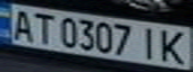0: (54, 15, 78, 48), (93, 19, 115, 53)
3: (75, 17, 96, 52)
7: (112, 20, 136, 56)
A: (6, 7, 36, 42)
I: (136, 25, 163, 61)
K: (157, 27, 190, 65)
T: (27, 10, 57, 45)
